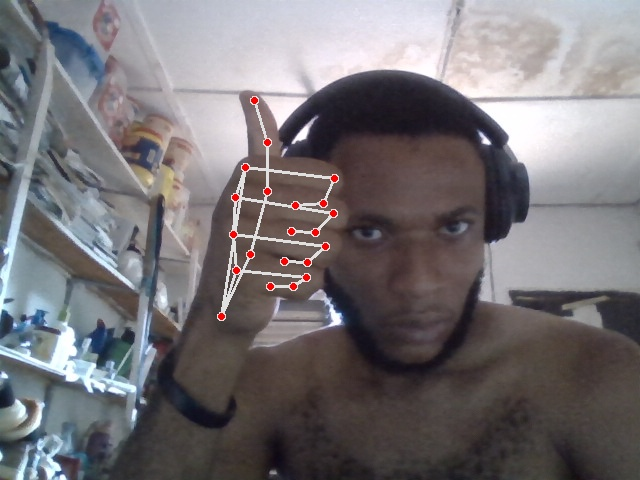thumbsup: (203, 91, 349, 333)
